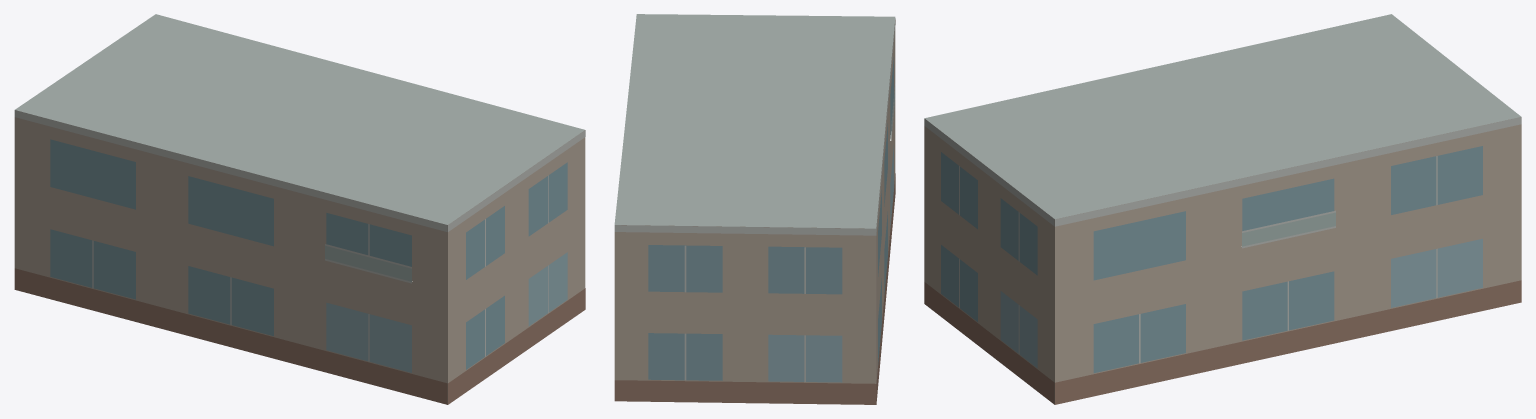
File: survey-upis-32695317.glb
The picture shows the model from 3 angles, left to right: view 1: azimuth 30°, elevation 25°; view 2: azimuth 150°, elevation 25°; view 3: azimuth 270°, elevation 25°; orthographic projection. The views are drawn at different scales.
Parts seen in each view (by area): view 1: survey-upis-32695317.tmp; view 2: survey-upis-32695317.tmp; view 3: survey-upis-32695317.tmp.
Part boxes in pixels (bbox=[...]): survey-upis-32695317.tmp: bbox=[14, 14, 585, 404]; survey-upis-32695317.tmp: bbox=[614, 14, 895, 404]; survey-upis-32695317.tmp: bbox=[924, 14, 1521, 404].
Size of the model in its own units: 14.48 by 6.1 by 17.8.
